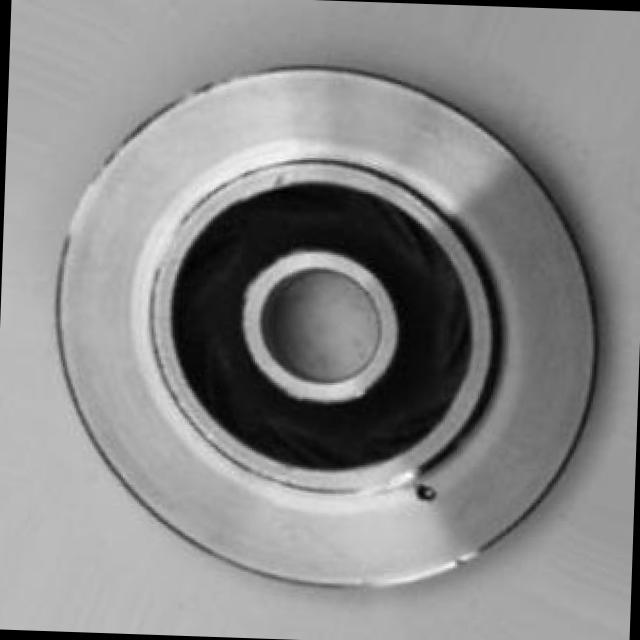Defect: (410, 476, 444, 517)
